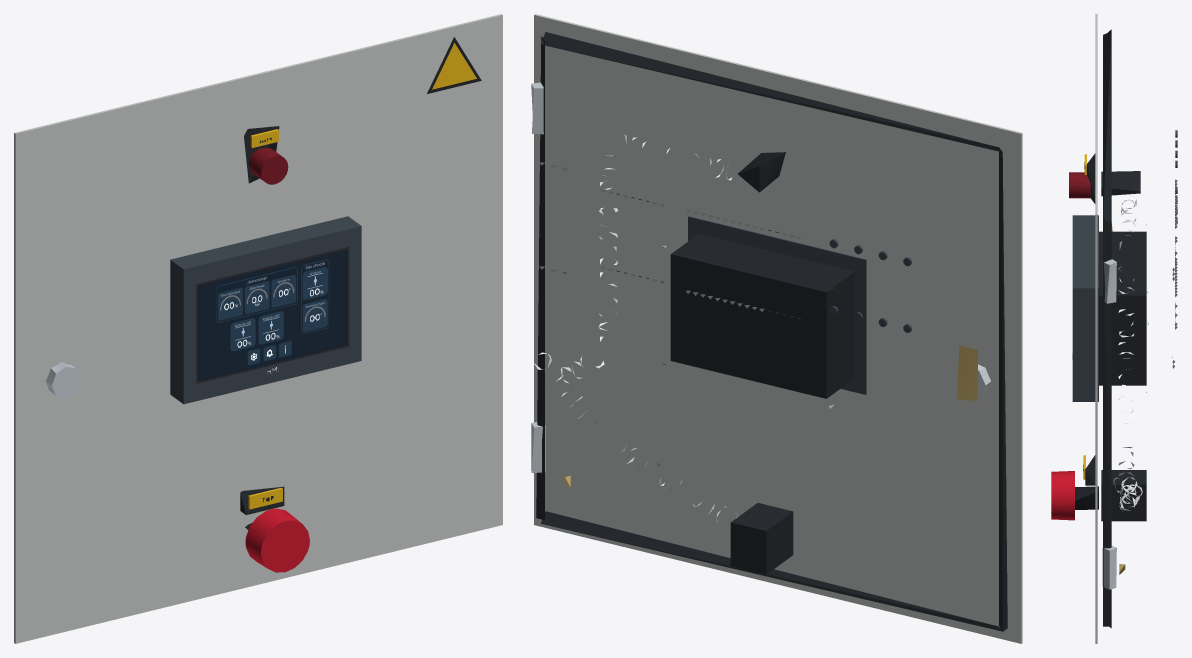
File: cabinet-cascade.glb
3 views of the same model, side by side, from view 1: azimuth 30°, elevation 25°; view 2: azimuth 150°, elevation 25°; view 3: azimuth 270°, elevation 25° (orthographic). The views are drawn at different scales.
Parts seen in each view (by area): view 1: cascade_door; view 2: cascade_door, cascade_body; view 3: cascade_door, cascade_body.
Boxes of the visible parts, left/top/right/bottom form: cascade_door: left=14, top=14, right=502, bottom=643; cascade_door: left=533, top=14, right=1022, bottom=643; cascade_body: left=531, top=82, right=911, bottom=472; cascade_door: left=1051, top=14, right=1148, bottom=643; cascade_body: left=1102, top=130, right=1177, bottom=589.
Size of the model in its own units: 0.397 by 0.397 by 0.106.
Materials: 10 (1 with a texture image).
